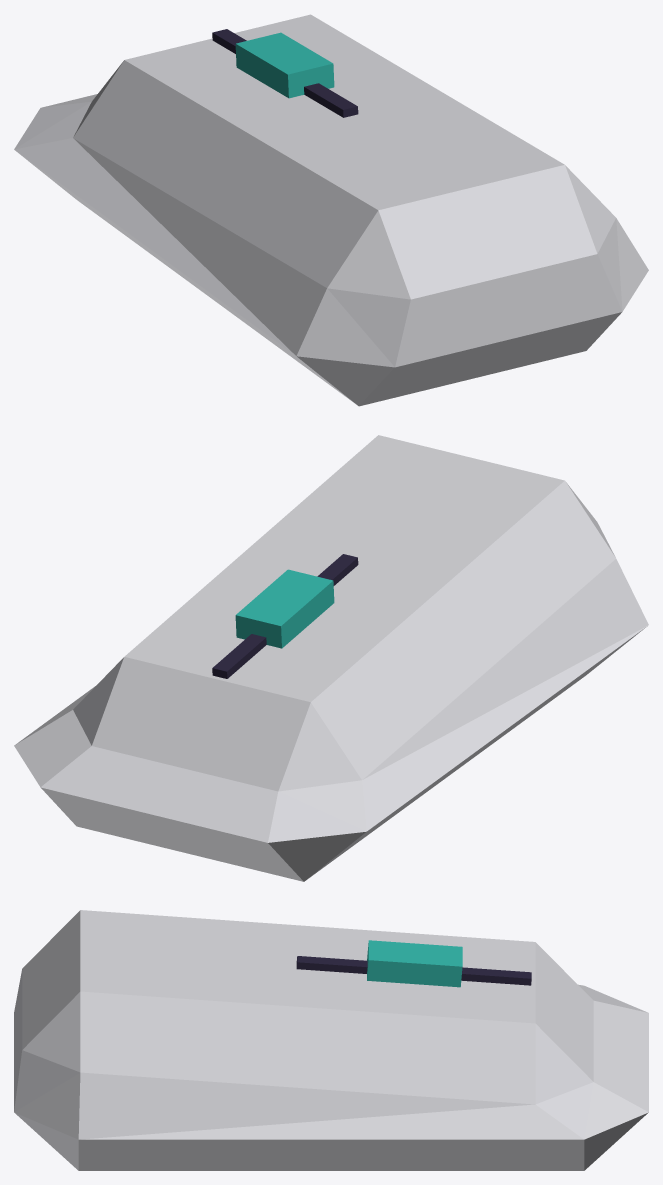
File: mouse.fbx
3 views of the same model, one above another, from view 1: azimuth 30°, elevation 25°; view 2: azimuth 150°, elevation 25°; view 3: azimuth 270°, elevation 25° (orthographic). The views are drawn at different scales.
Parts seen in each view (by area): view 1: mouse; view 2: mouse; view 3: mouse.
Boxes of the visible parts, <box> form: mouse: <box>14,14,648,406</box>; mouse: <box>14,435,648,881</box>; mouse: <box>14,910,648,1170</box>.
Bounding box in the file's own units: 0.062 × 0.0321 × 0.108.
